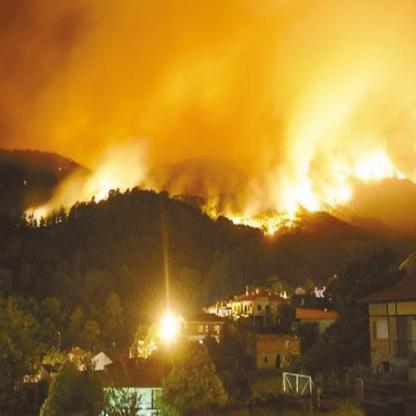fire: (241, 148, 408, 230)
